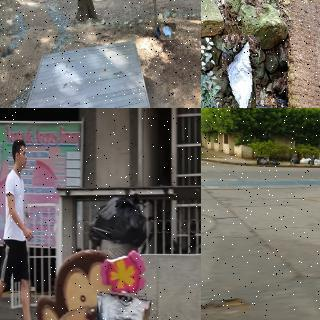Garbage: (218, 34, 259, 108), (94, 291, 149, 320), (161, 23, 175, 40), (258, 157, 270, 165), (290, 157, 301, 164), (269, 159, 280, 165), (300, 158, 309, 164), (309, 156, 315, 165), (314, 158, 320, 165)
